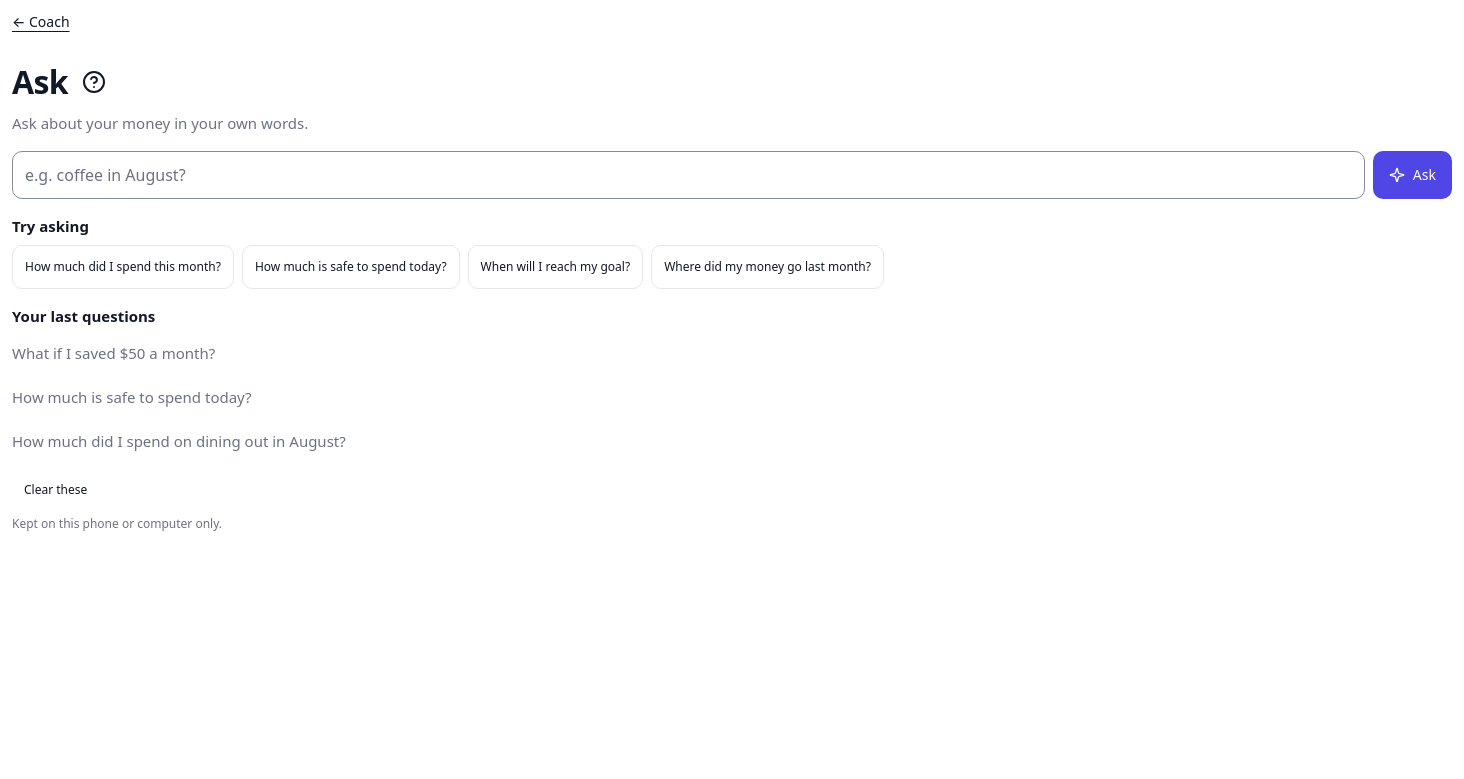
Test case: Ask with AI on › marks what the AI read, and answers from core with the categories it named
Step 1. Type "am i eating out more?" into the field named "Your question" → (688, 174), box [12,150,1365,198]
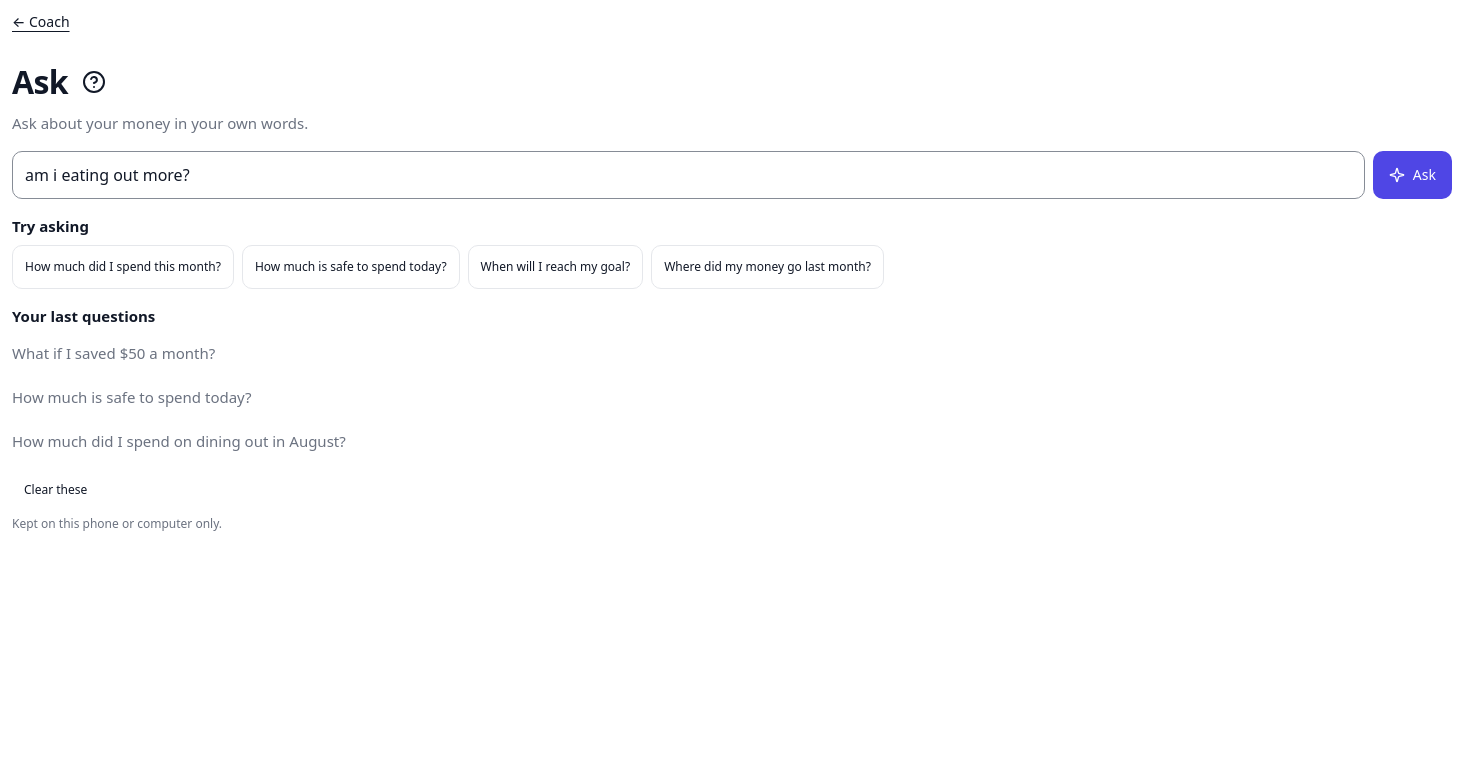
Step 2. Click the button "Ask" → click(1412, 174), box [1373,150,1452,198]
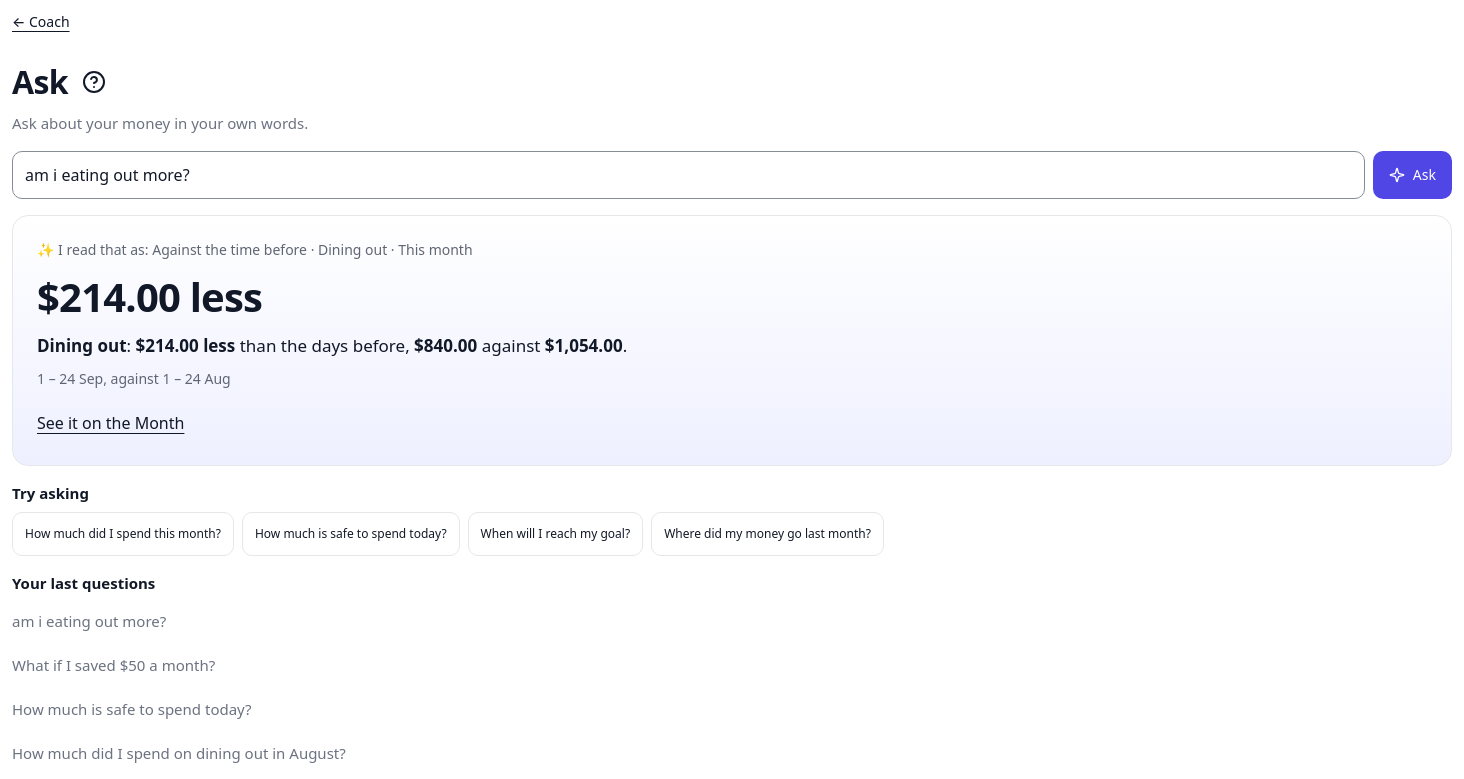
Result: the text "I read that as: Against the time before · Dining out · This month" shows "✨" at [37,240,58,258]
Result: the text "1 – 24 Sep, against 1 – 24 Aug" is shown at [37,369,231,388]
